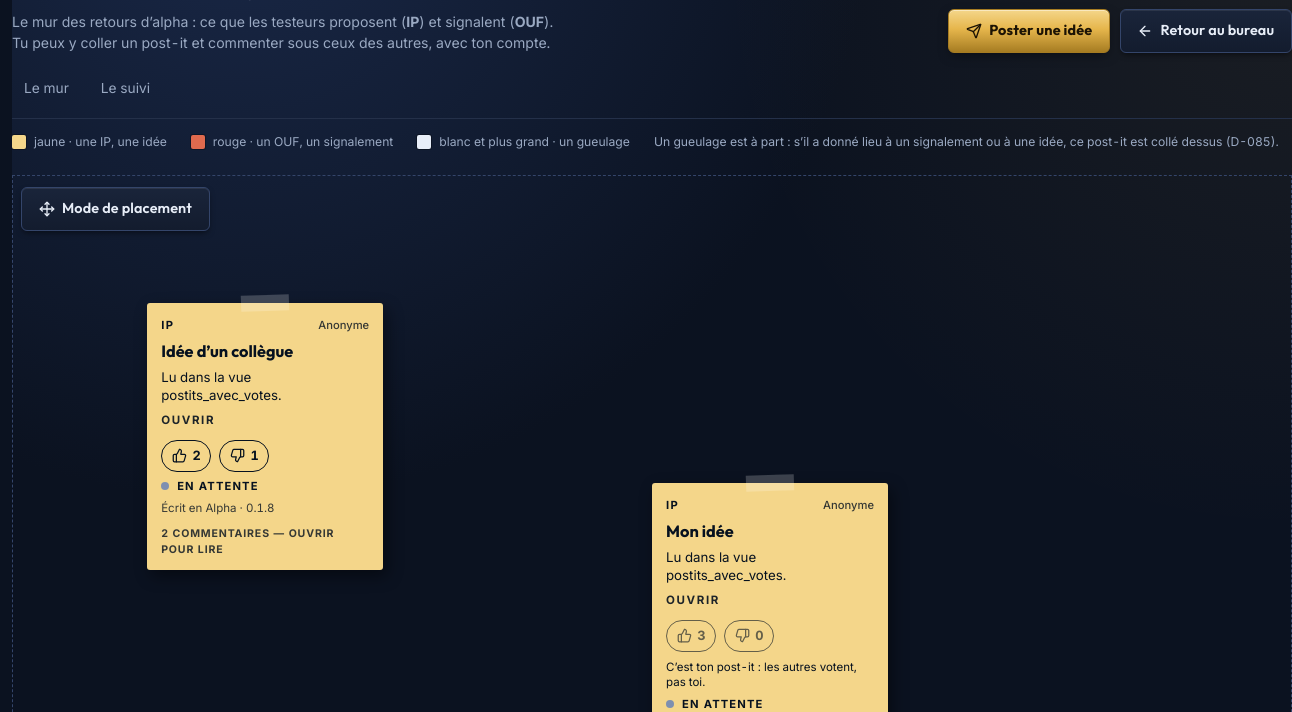
Test: relire ou retirer son post-it (#139) › mon post-it en attente se corrige : le formulaire envoie le titre et le texte
Expected: the text "Mon idée" is shown, [666, 521, 734, 541]
Click the button with aria-label "Agrandir le post-it « Mon idée »": (770, 553) [666, 497, 874, 610]
(page scrolled)
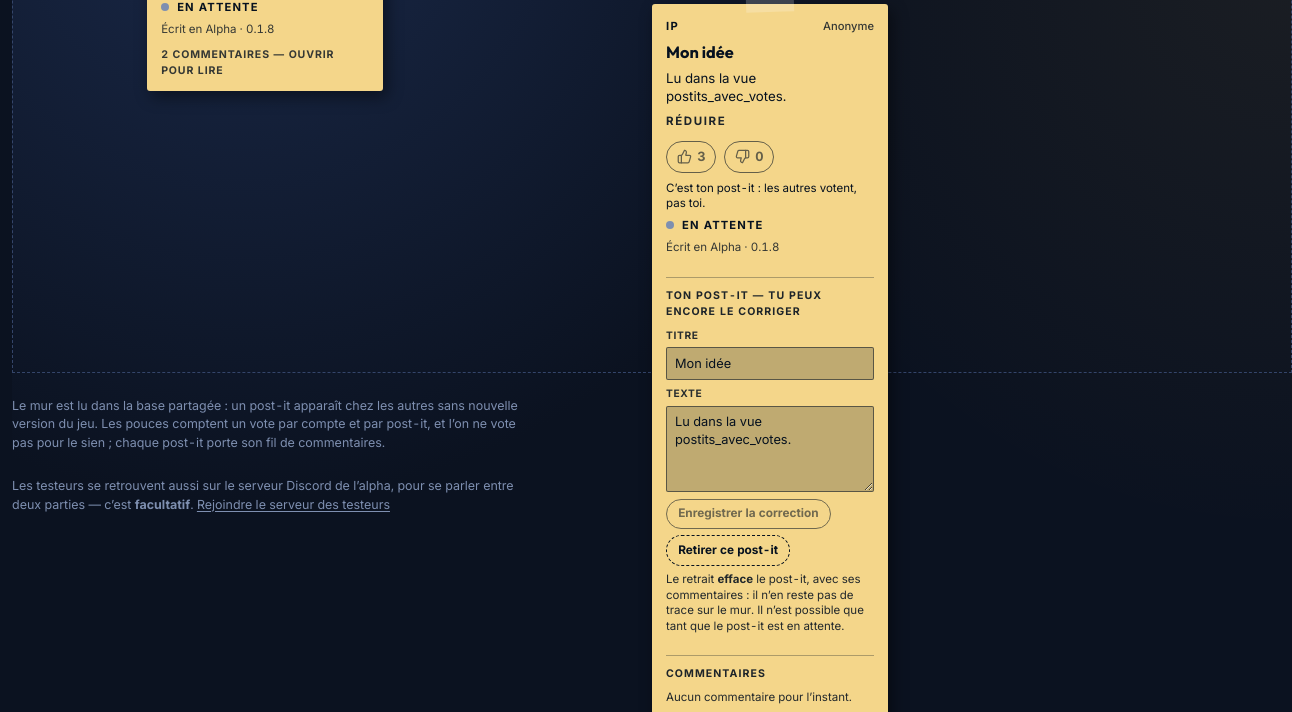
Expected: the element that starts with "Ton post-it — tu peux encore le corriger" is shown, [666, 277, 874, 634]
Replace the text in the field named "Corriger le titre de « Mon idée »" with "Mon idée corrigée": (770, 364) [666, 347, 874, 380]
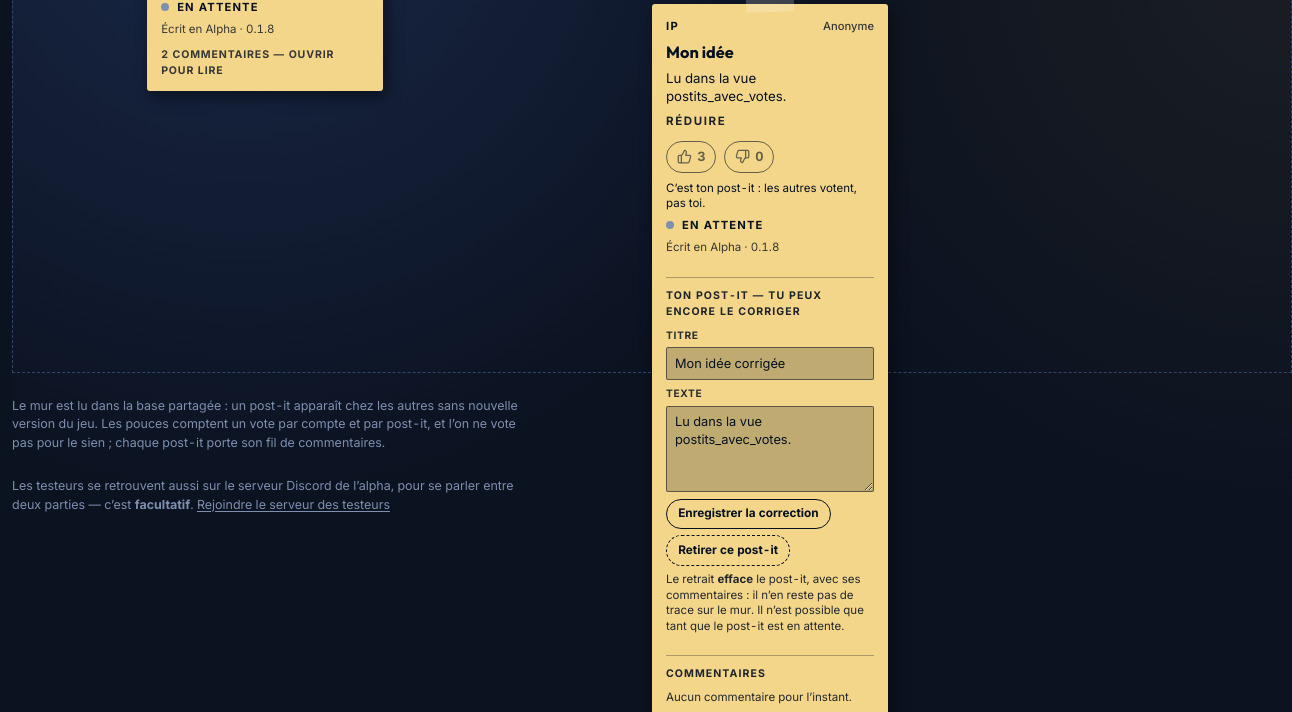
Replace the text in the text box named "Corriger le texte de « Mon idée »" with "Texte corrigé.": (770, 449) [666, 406, 874, 492]
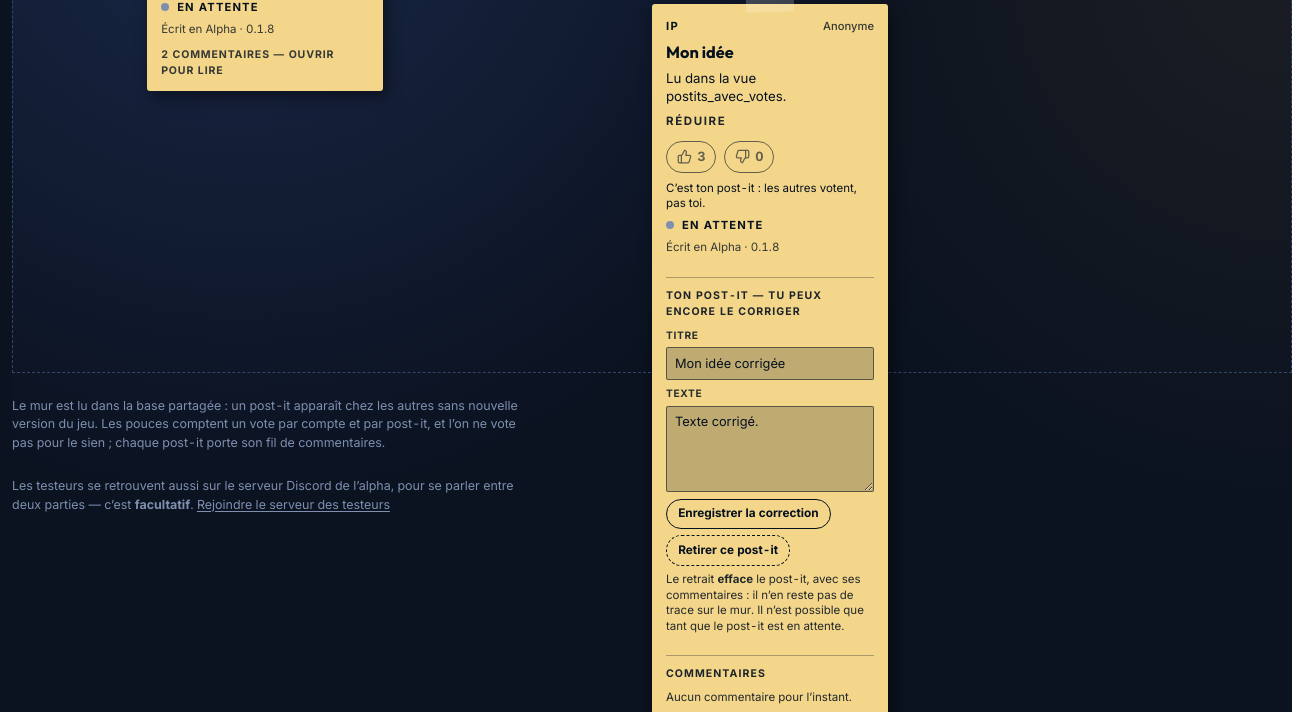
Click the button "Enregistrer la correction": (748, 514) [666, 499, 831, 529]
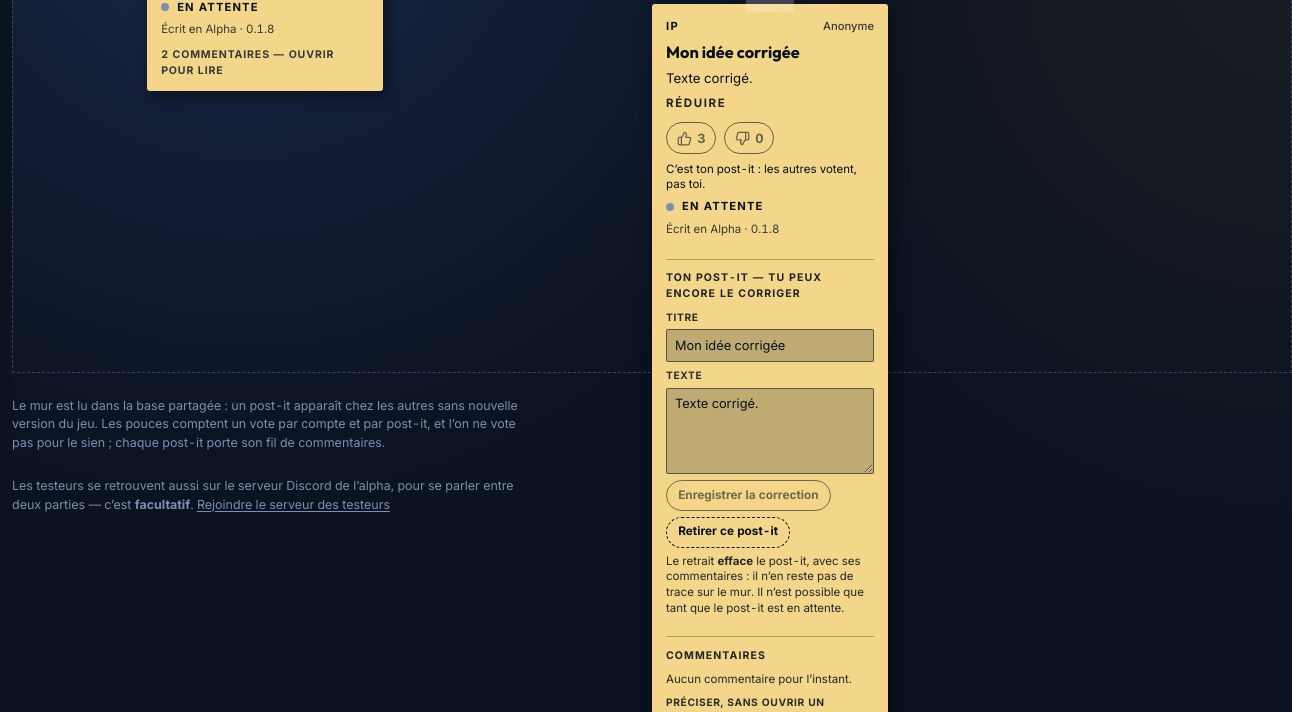
Expected: the text "Mon idée corrigée" is shown, [666, 42, 800, 62]
